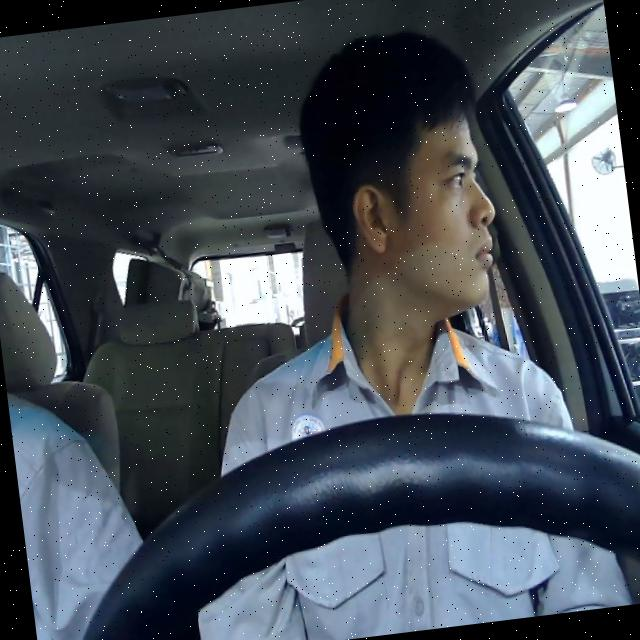seeing_right: (338, 102, 507, 320)
